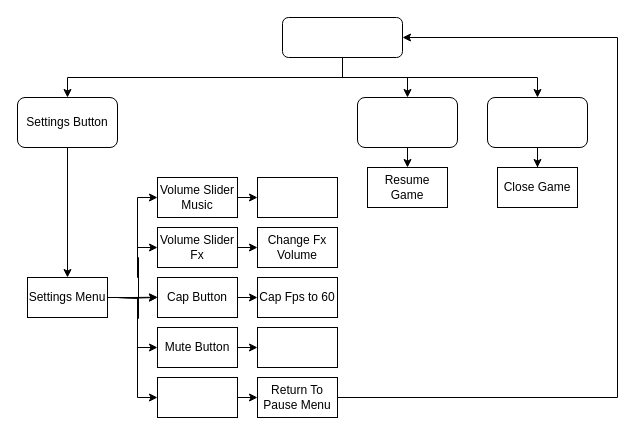
The diagram is 643 pixels wide and 435 high, and some of its shapes have lost their labels. The shapes that lost their labels are listed below. From the top down, each one's centre as x and y in pixels, then its label:
point 342,37: Pause Menu
point 407,122: Resume Button
point 537,122: Close Button
point 297,197: Change Music Volume
point 297,347: Mute all music and fx
point 197,397: Back Button
